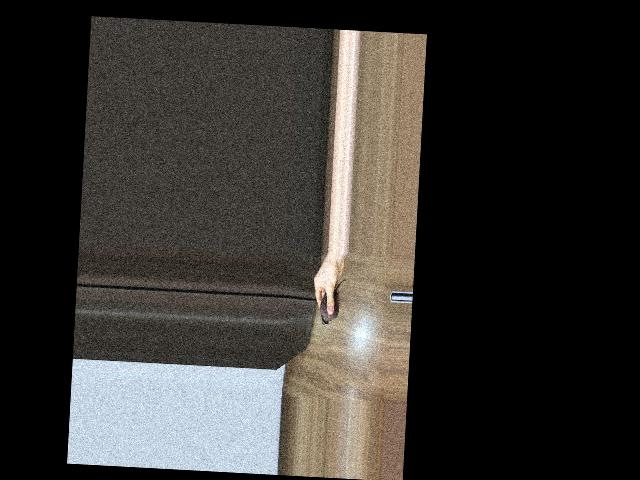beet: (319, 279, 346, 326)
